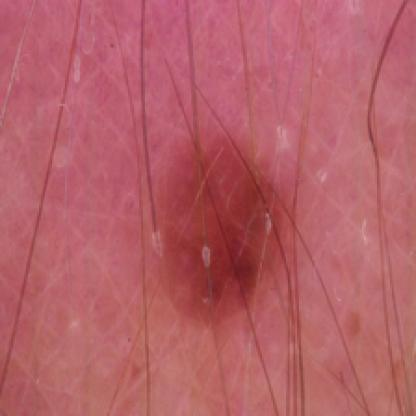benign: (145, 149, 297, 323)
